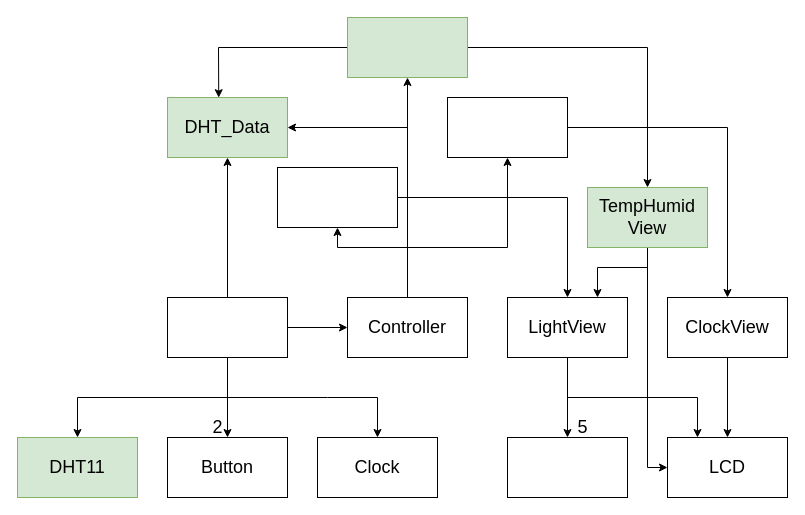
Some shapes in this 805 by 515 pixel diagram are drawn without their labels. The shapes that lost their labels are listed below. From the top down, each one's centre as x and y in pixels, then its label:
At (407,47): "TempHumid Service".
At (507,127): "Clock Service".
At (337,197): "StandLight Service".
At (227,327): "Listener".
At (567,467): "LED".
